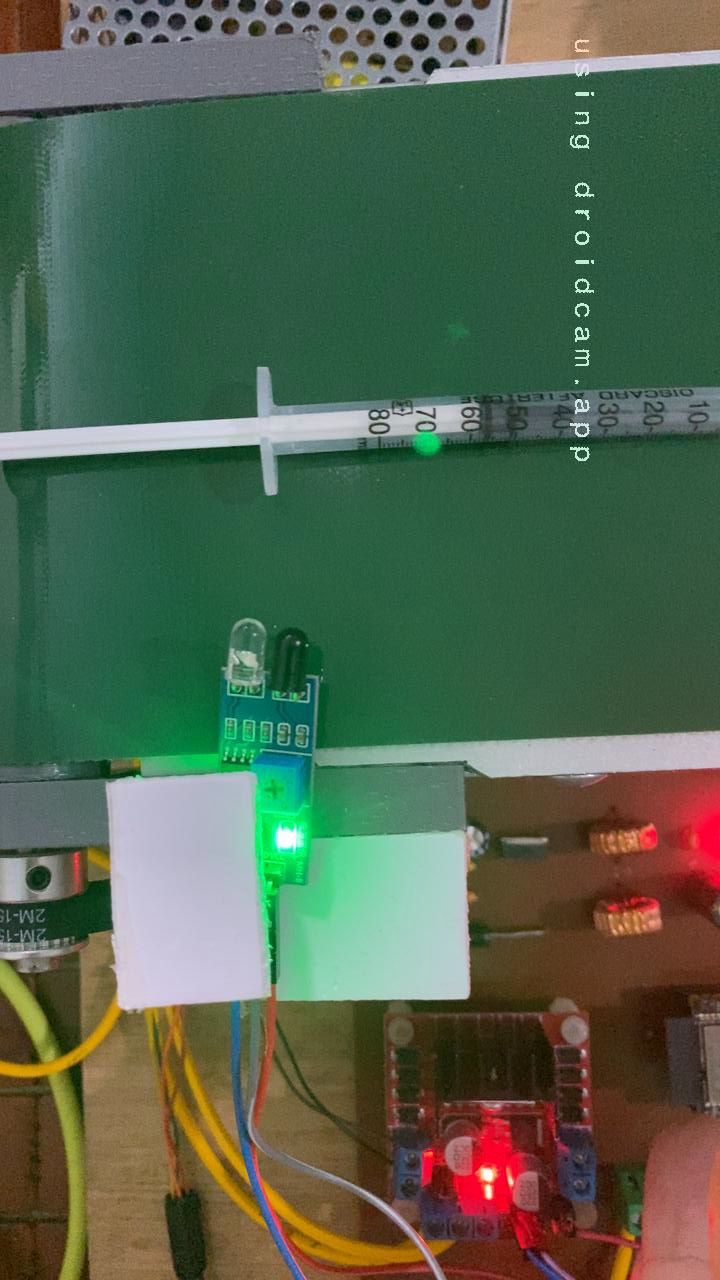syringe: (0, 362, 510, 503)
